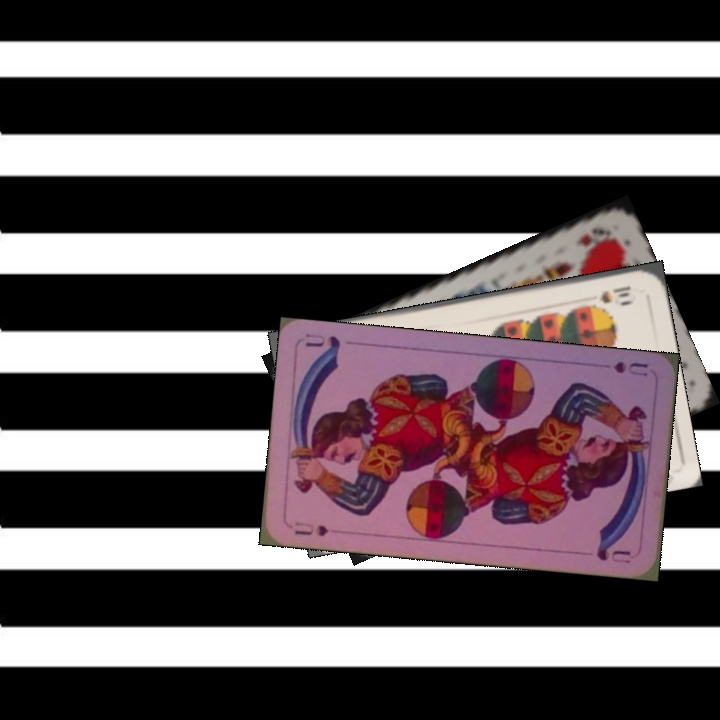HK: (572, 223, 614, 249)
S10: (595, 282, 634, 306)
SU: (609, 357, 651, 379), (290, 517, 332, 539)
